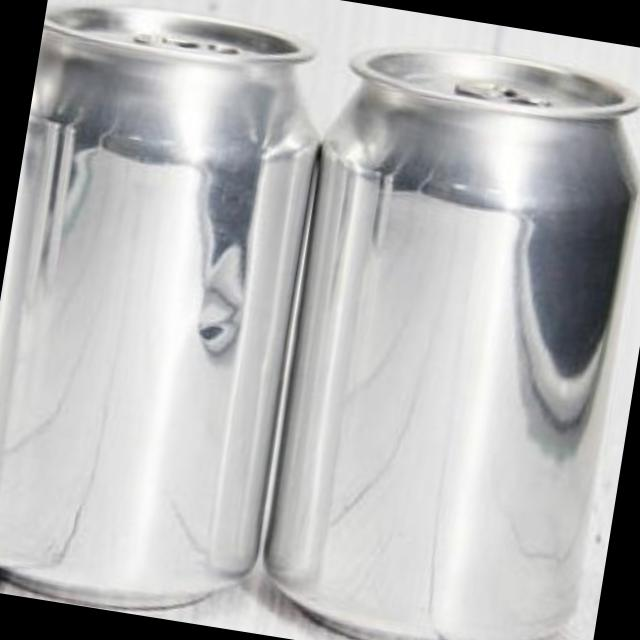metal: (268, 47, 640, 640), (0, 3, 318, 604)
